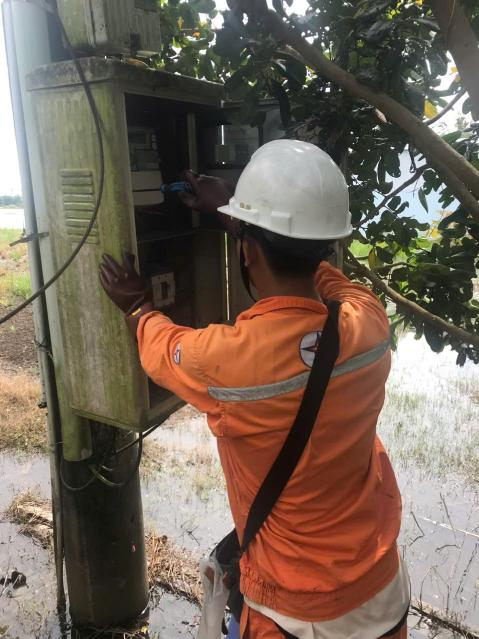gloves: (93, 250, 175, 364), (172, 154, 241, 244)
helmet: (180, 131, 380, 253)
